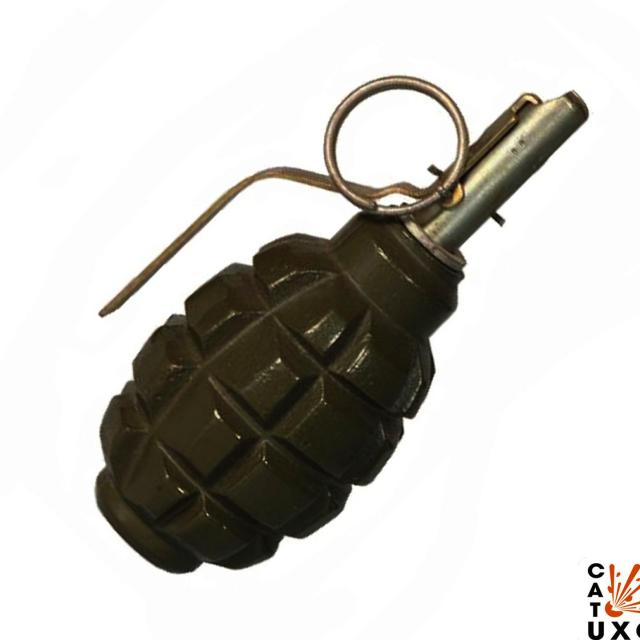grenade: (96, 77, 591, 575)
